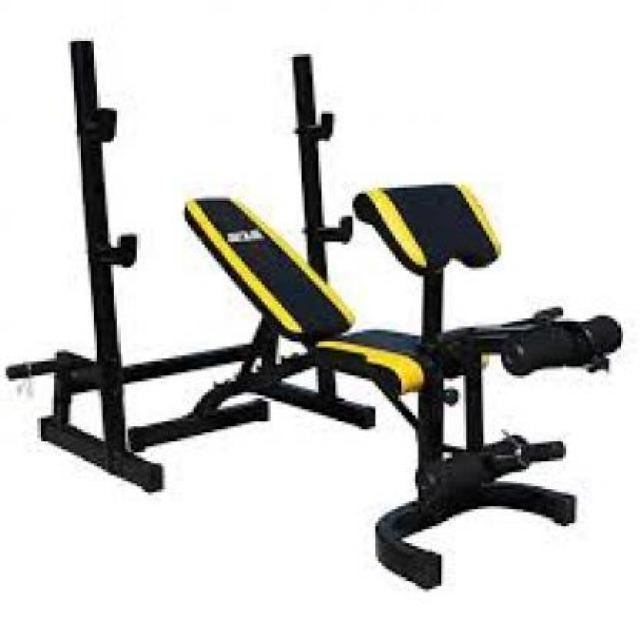arm curl machine: (326, 183, 625, 592)
